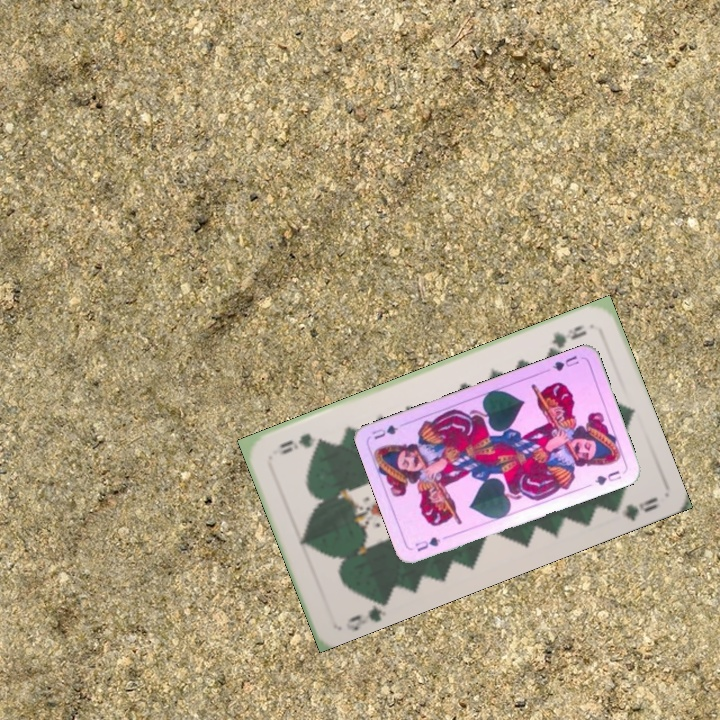G9: (341, 595, 391, 633), (542, 320, 589, 356)
GU: (548, 351, 582, 374), (411, 533, 443, 554)
